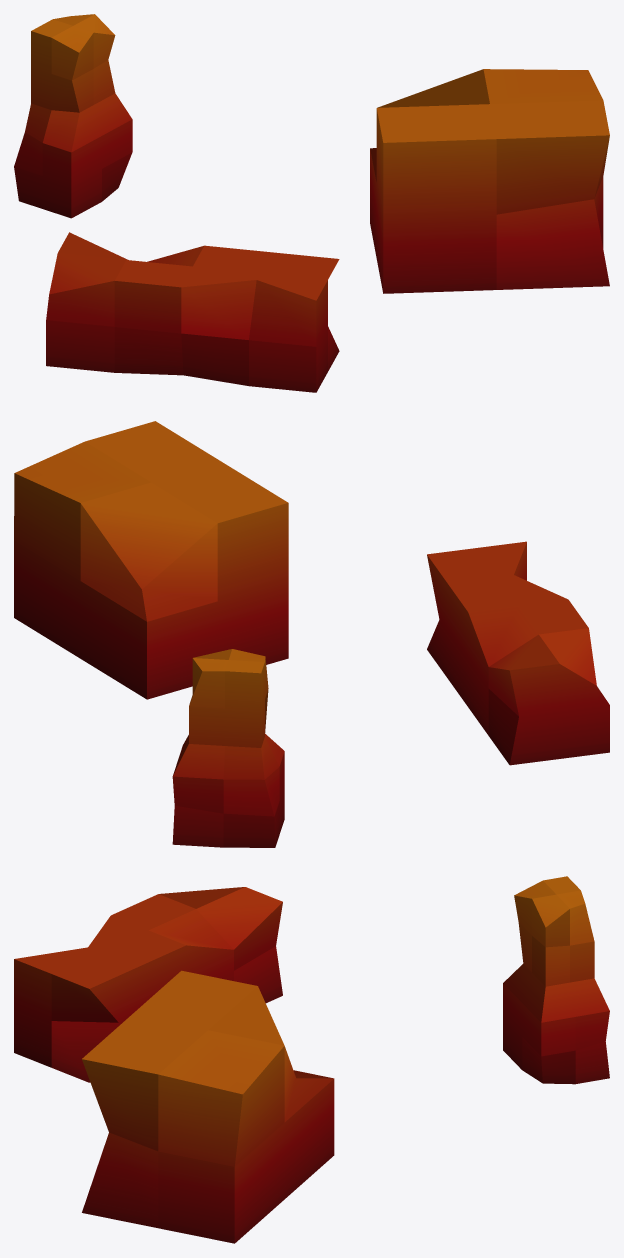
File: ruins_13.fbx
3 renders of one model, top to bottom at view 1: azimuth 30°, elevation 25°; view 2: azimuth 150°, elevation 25°; view 3: azimuth 270°, elevation 25°, orthographic. The views are drawn at different scales.
Parts seen in each view (by area): view 1: ruins_13; view 2: ruins_13; view 3: ruins_13.
Part boxes in pixels (box(x1,y1,x2,y2)): ruins_13: box(14, 14, 609, 392); ruins_13: box(14, 421, 609, 847); ruins_13: box(14, 876, 609, 1243).
Size of the model in its own units: 184 by 51.81 by 165.
